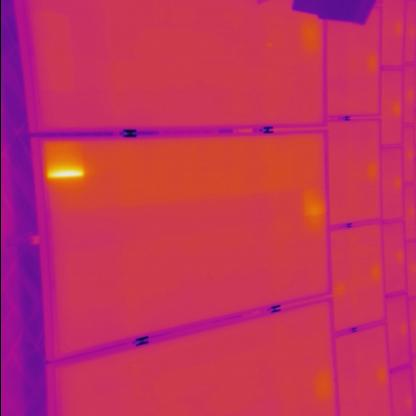hotspot: (35, 139, 87, 183)
